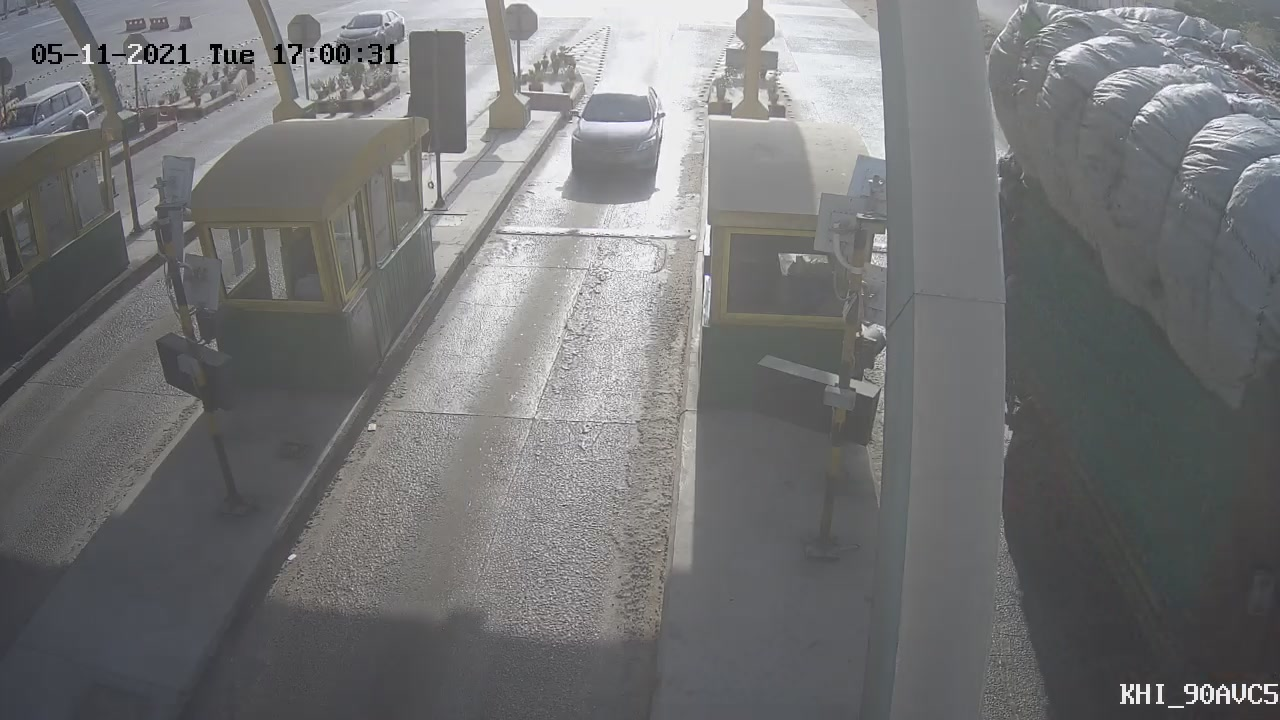F1: (546, 66, 679, 201)
